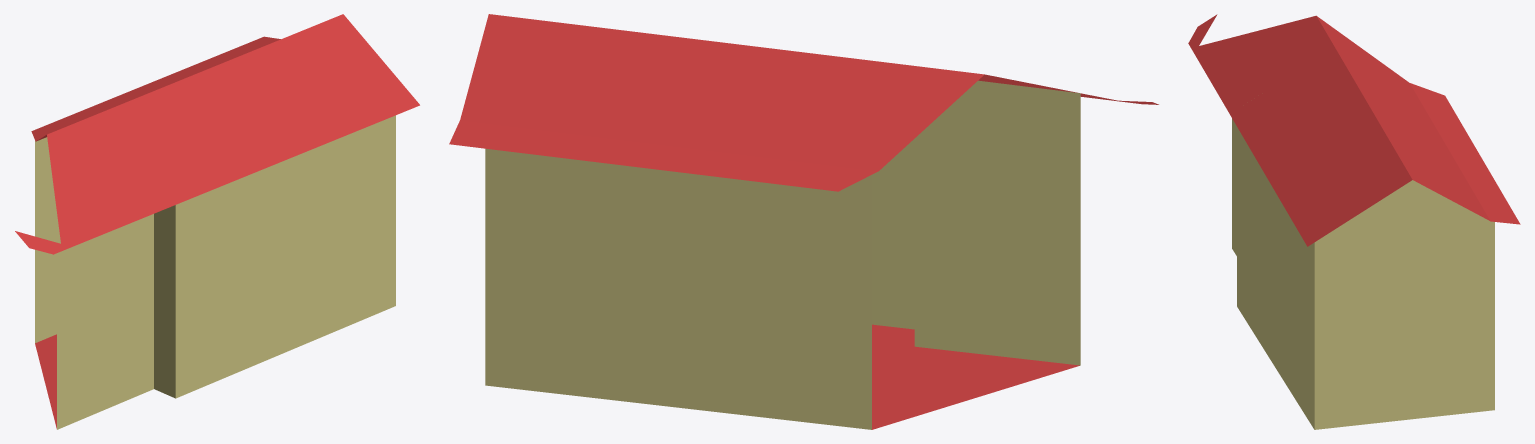
3 renders of one model, left to right at view 1: azimuth 30°, elevation 25°; view 2: azimuth 150°, elevation 25°; view 3: azimuth 270°, elevation 25°, orthographic. The views are drawn at different scales.
Bounding box in the file's own units: 16.4 × 10.73 × 8.86.
